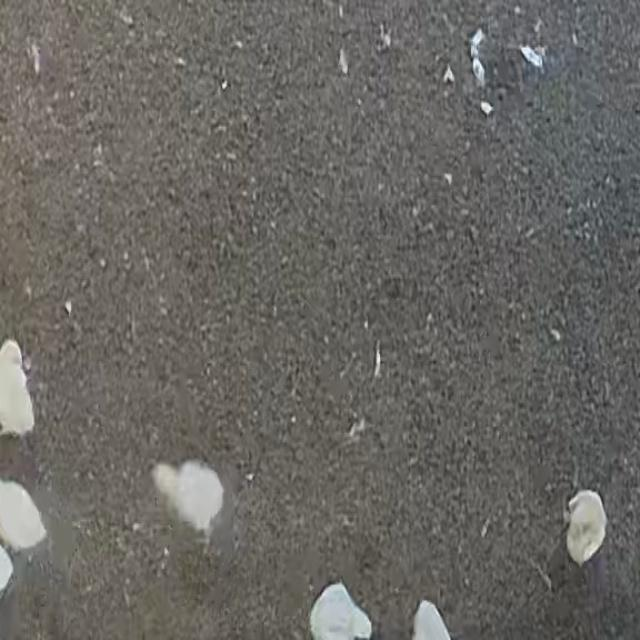chicken: (150, 452, 231, 562), (564, 482, 610, 566)
